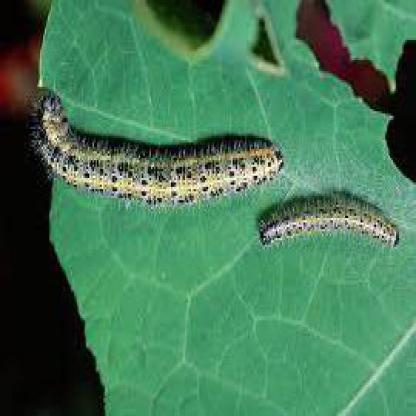pieris: (27, 87, 284, 215), (254, 191, 402, 249)
